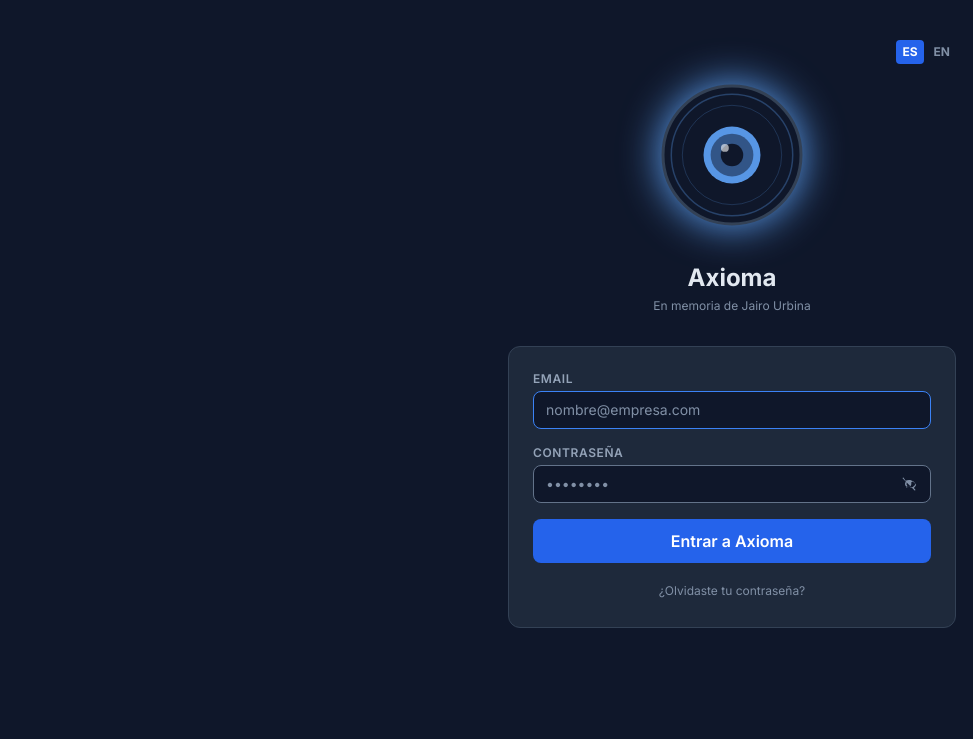
Test: Login with the real Zustand store › establishes a Classic session and navigates to the Classic root after its own epoch bump
Type "a@b.c" into the field with placeholder "nombre@empresa.com" at coordinates (732, 410), box [533,391,931,429]
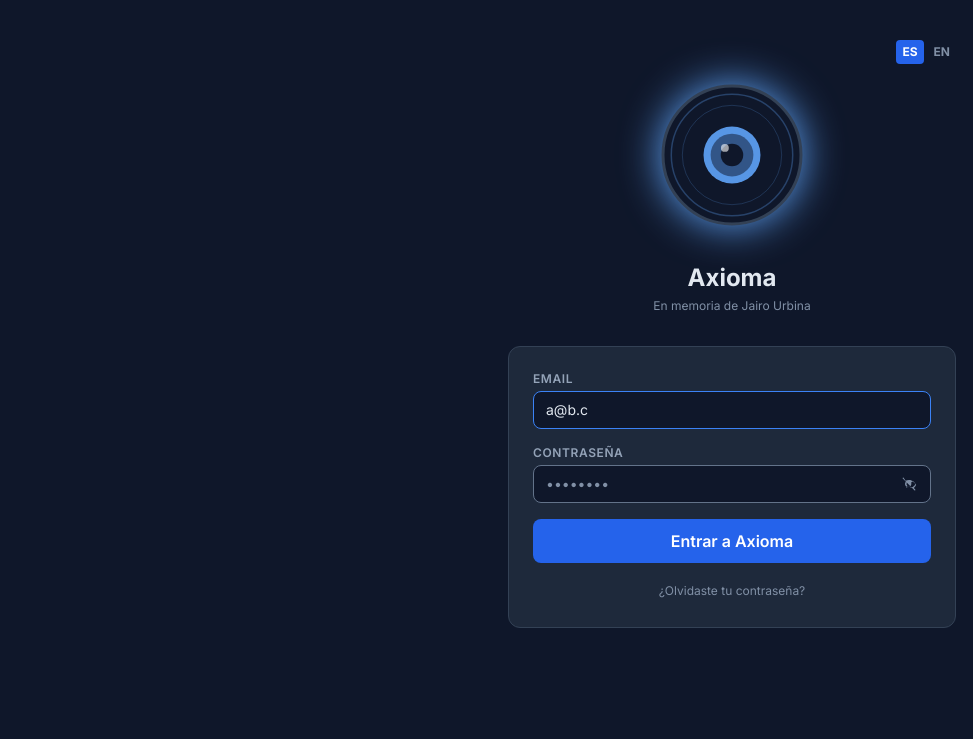
Type "password" into the password field with placeholder "••••••••" at coordinates (732, 484), box [533,465,931,503]
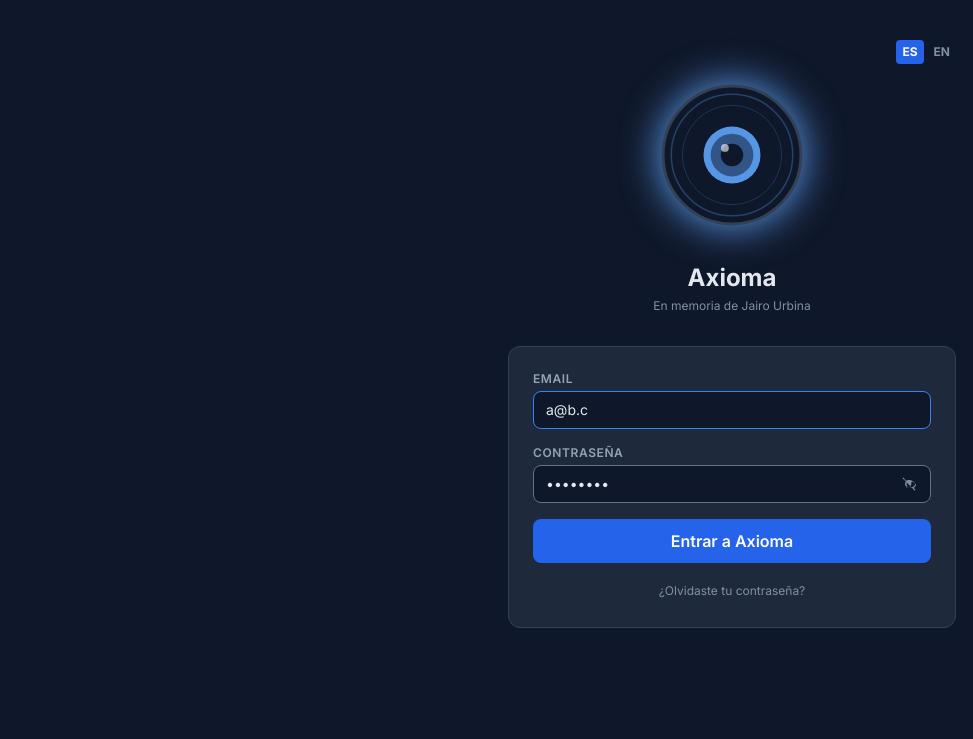
Click the button "Entrar a Axioma" at coordinates (732, 541), box [533,519,931,563]
(page scrolled)
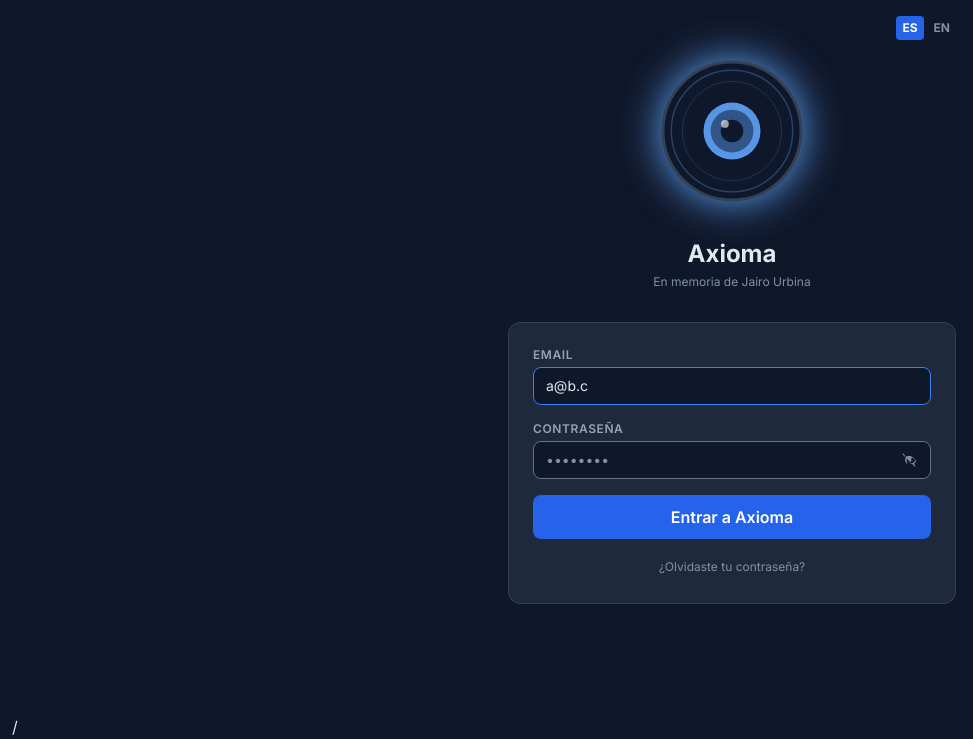
expect the text with test id "location" reads "/": met, box [12,717,18,737]
